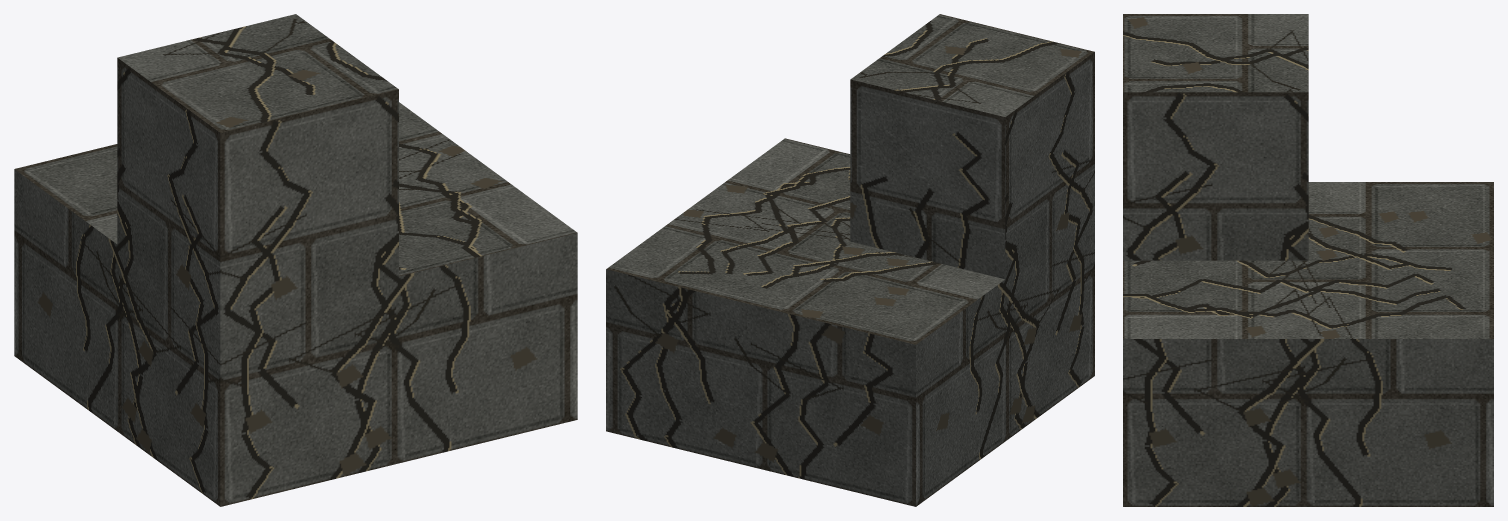
File: foundation_z3.glb
The picture shows the model from 3 angles, left to right: view 1: azimuth 30°, elevation 25°; view 2: azimuth 150°, elevation 25°; view 3: azimuth 270°, elevation 25°; orthographic projection. The views are drawn at different scales.
Parts seen in each view (by area): view 1: foundation_z3; view 2: foundation_z3; view 3: foundation_z3.
Part boxes in pixels (x1,y1,x2,y2): foundation_z3: (14, 14, 577, 506); foundation_z3: (606, 14, 1094, 506); foundation_z3: (1123, 14, 1493, 506).
Size of the model in its own units: 1 by 1 by 1.
1 material, 1 textured.
